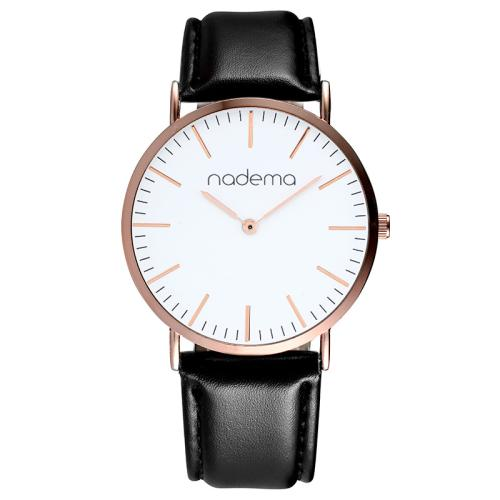watch: (116, 5, 396, 499)
